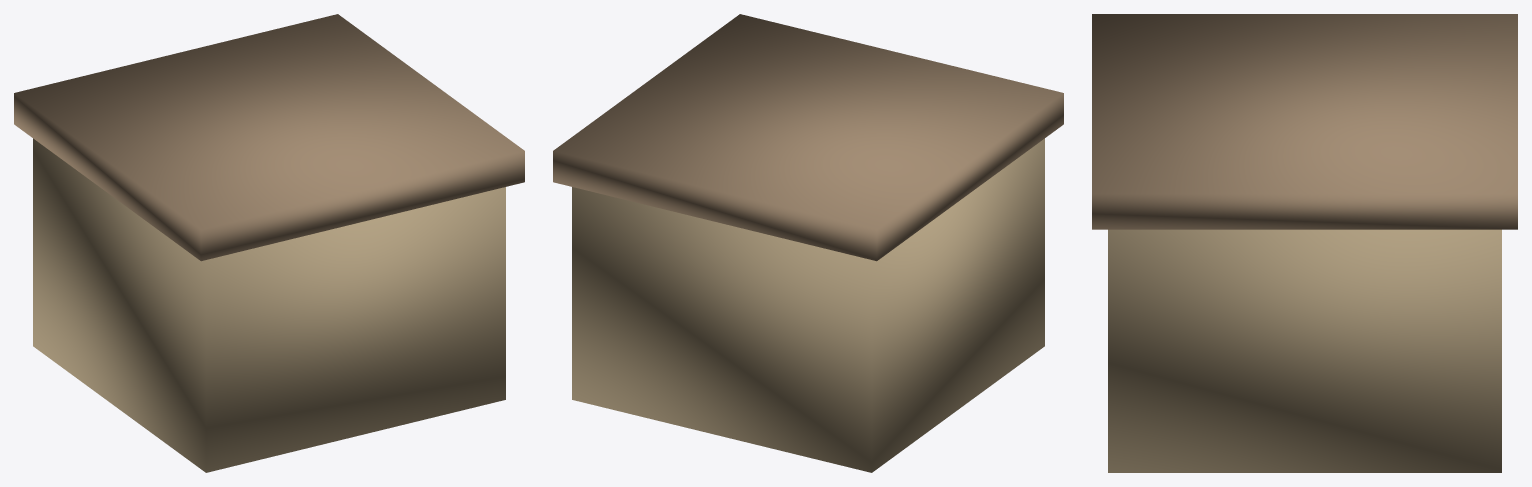
The model's file is prop_shipping_box.glb.
3 views of the same model, side by side, from view 1: azimuth 30°, elevation 25°; view 2: azimuth 150°, elevation 25°; view 3: azimuth 270°, elevation 25° (orthographic). The views are drawn at different scales.
Parts seen in each view (by area): view 1: box, lid; view 2: box, lid; view 3: box, lid.
Part boxes in pixels (x1,y1,x2,y2): box: [33, 138, 505, 472]; lid: [14, 14, 524, 261]; box: [572, 138, 1044, 472]; lid: [553, 14, 1063, 261]; box: [1108, 229, 1501, 472]; lid: [1092, 14, 1517, 229].
Size of the model in its own units: 0.54 by 0.4 by 0.54.
